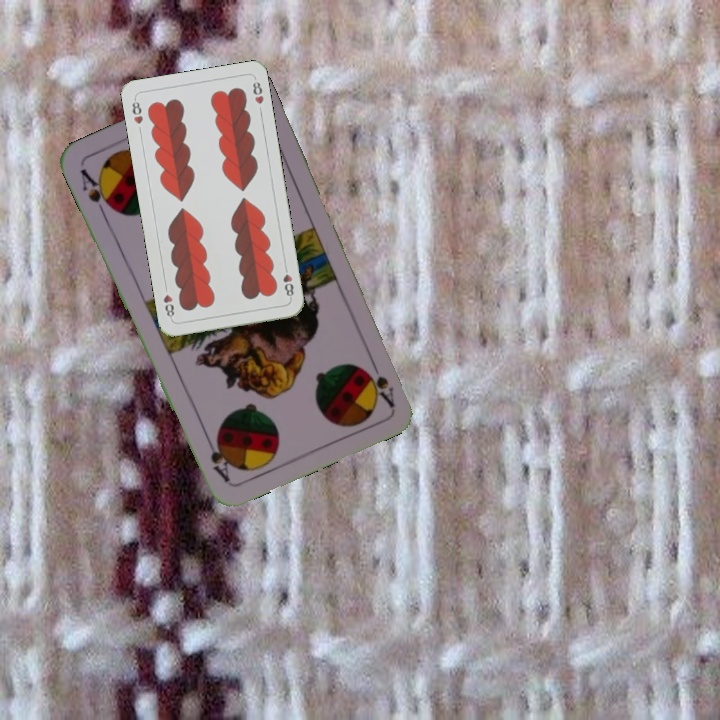H8: (279, 261, 296, 301), (128, 94, 146, 127)
SA: (76, 164, 116, 220), (363, 353, 397, 410)
